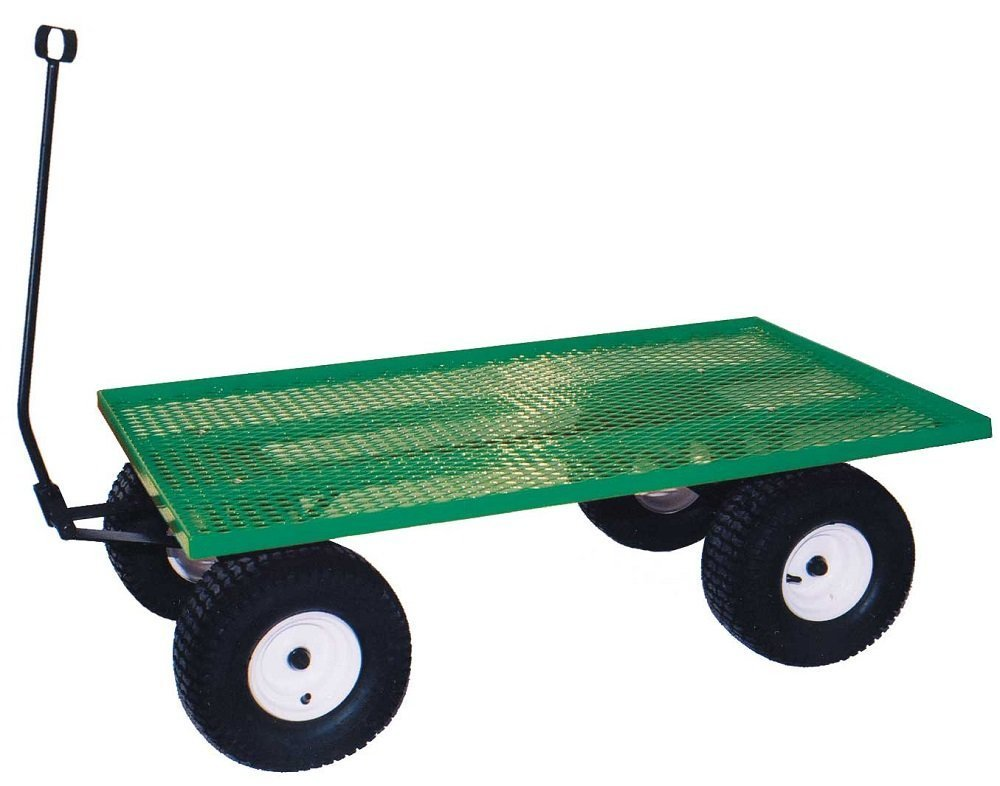Carts: (12, 27, 1000, 773)
